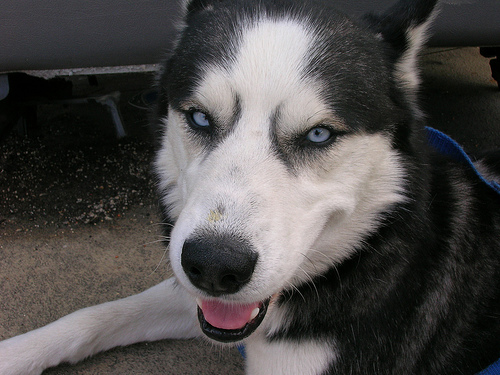dog: (0, 1, 499, 374)
